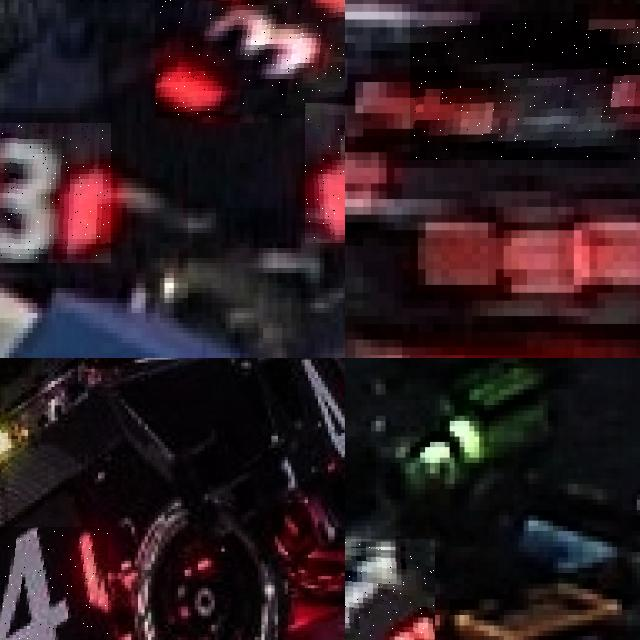R3: (154, 0, 345, 118), (0, 123, 112, 263), (305, 103, 345, 243)
R4: (409, 19, 640, 160), (0, 527, 107, 640), (345, 539, 434, 640)
